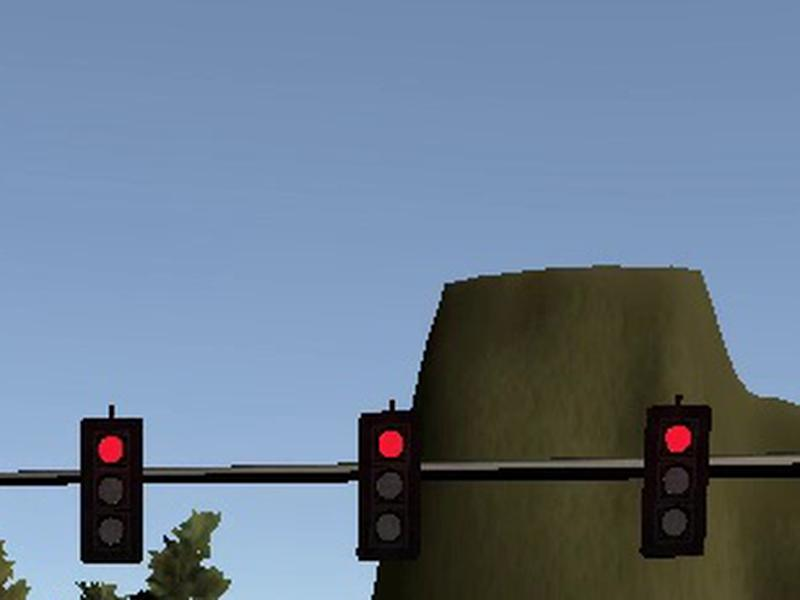Red: (643, 404, 713, 556), (355, 409, 420, 561), (81, 419, 144, 562)
